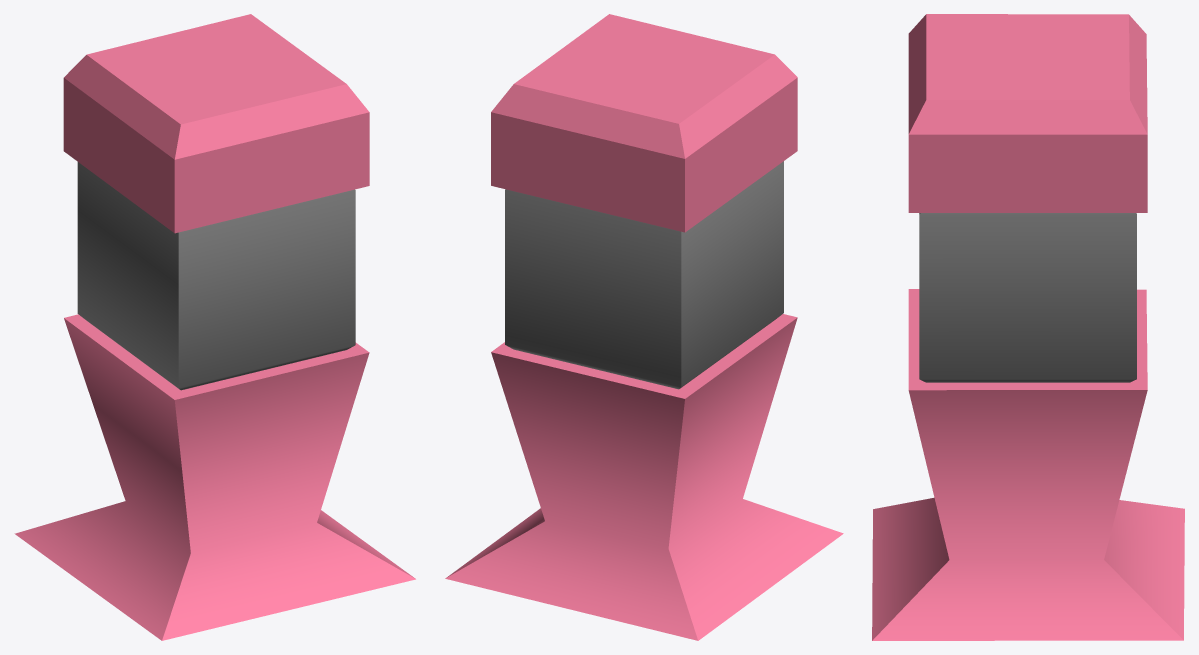
File: mirror_last.fbx
3 renders of one model, left to right at view 1: azimuth 30°, elevation 25°; view 2: azimuth 150°, elevation 25°; view 3: azimuth 270°, elevation 25°, orthographic. The views are drawn at different scales.
Visible parts, largest first — view 1: Box002; view 2: Box002; view 3: Box002.
Part boxes in pixels (<box>): Box002: <box>14,14,415,640</box>; Box002: <box>445,14,843,640</box>; Box002: <box>872,14,1184,640</box>.
Bounding box in the file's own units: 7.19 × 13.14 × 7.19.
